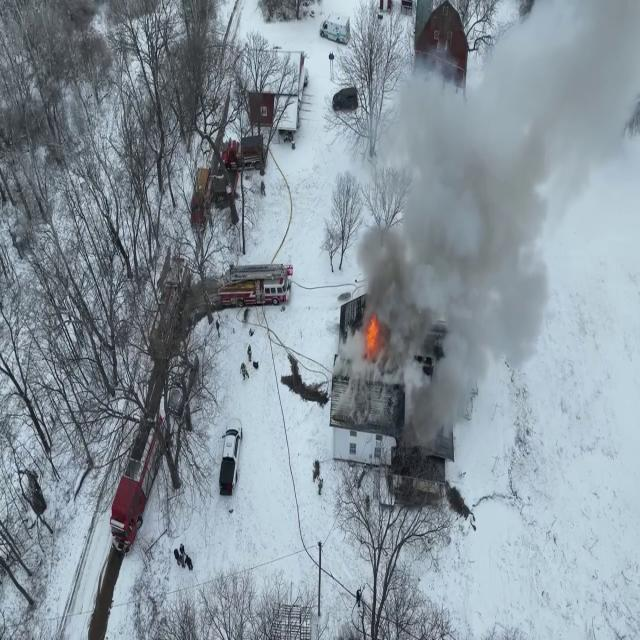Fire: (363, 308, 382, 360)
Smoke: (355, 1, 638, 461)
